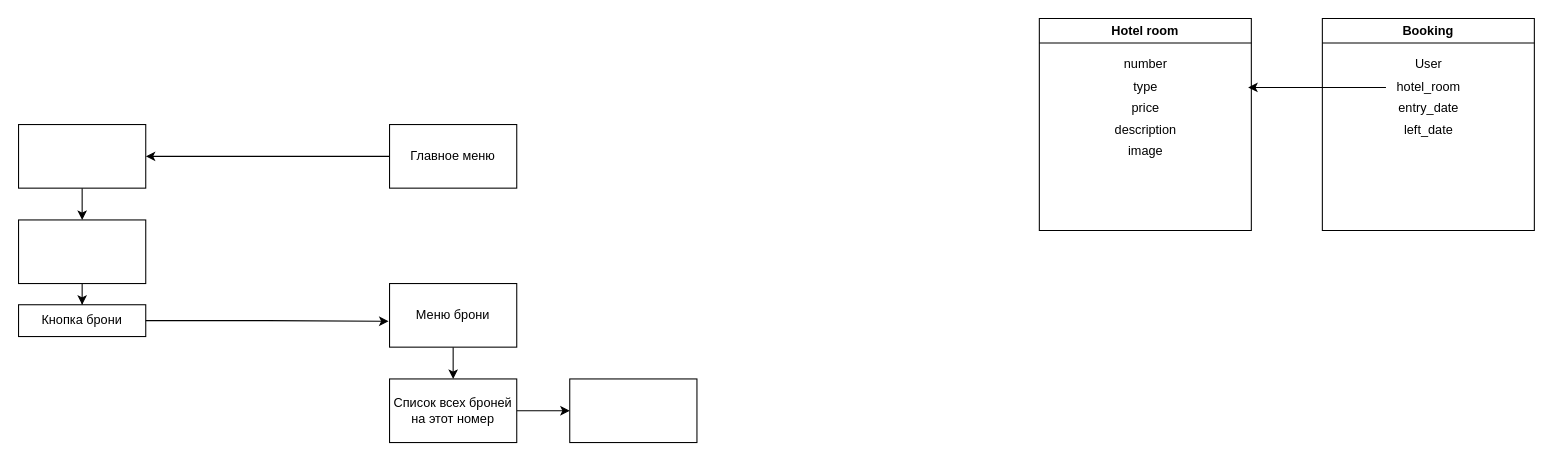
Image size: 1553x461. Some labels were removed from this diagram. The box of each missing label's shape, as (x1, y1, x2, y2) in pixels:
Комнаты отеля: (17, 219, 146, 284)
Название отеля: (17, 123, 146, 188)
Форма для бронирования этого номера: (569, 378, 697, 443)
